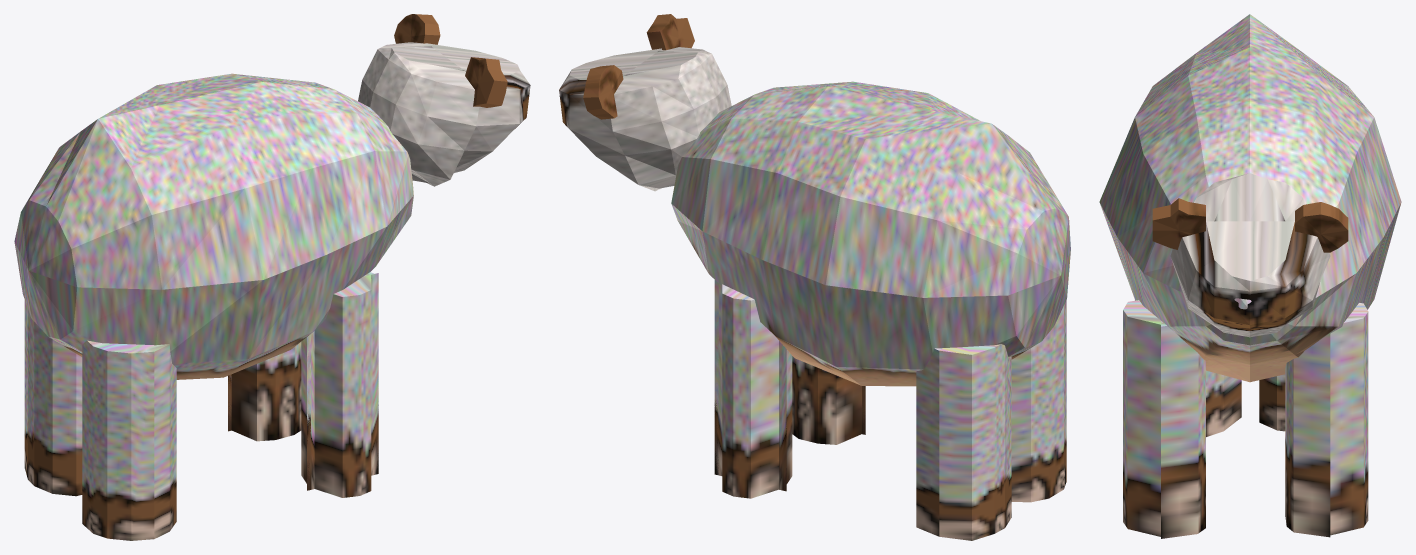
Rendered from Bear.glb.
3 views of the same model, side by side, from view 1: azimuth 30°, elevation 25°; view 2: azimuth 150°, elevation 25°; view 3: azimuth 270°, elevation 25° (orthographic). The views are drawn at different scales.
Visible parts, largest first — view 1: Bear; view 2: Bear; view 3: Bear.
Part boxes in pixels (left/top/right/bottom): Bear: left=14, top=14, right=530, bottom=540; Bear: left=559, top=14, right=1070, bottom=540; Bear: left=1099, top=14, right=1401, bottom=538.
Bounding box in the file's own units: 150 × 112 × 75.6.
Materials: 1 (1 with a texture image).
